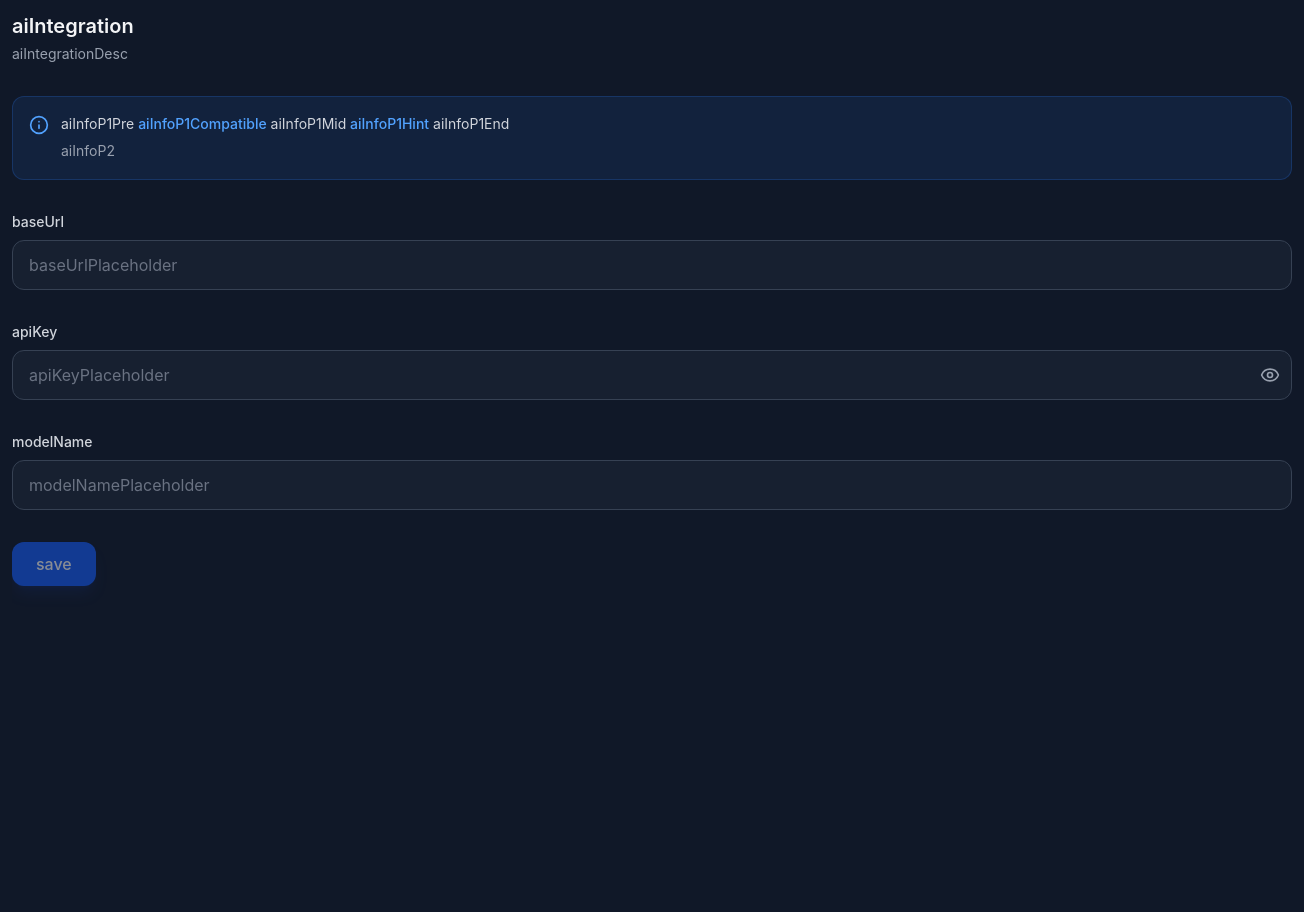
it: AIIntegrationSettings — save flow › successful save: validates, persists, clears fields, refreshes list
In the field labelled "baseUrl": {"x": 652, "y": 264} [12, 240, 1292, 290], type "https://api.example.com"
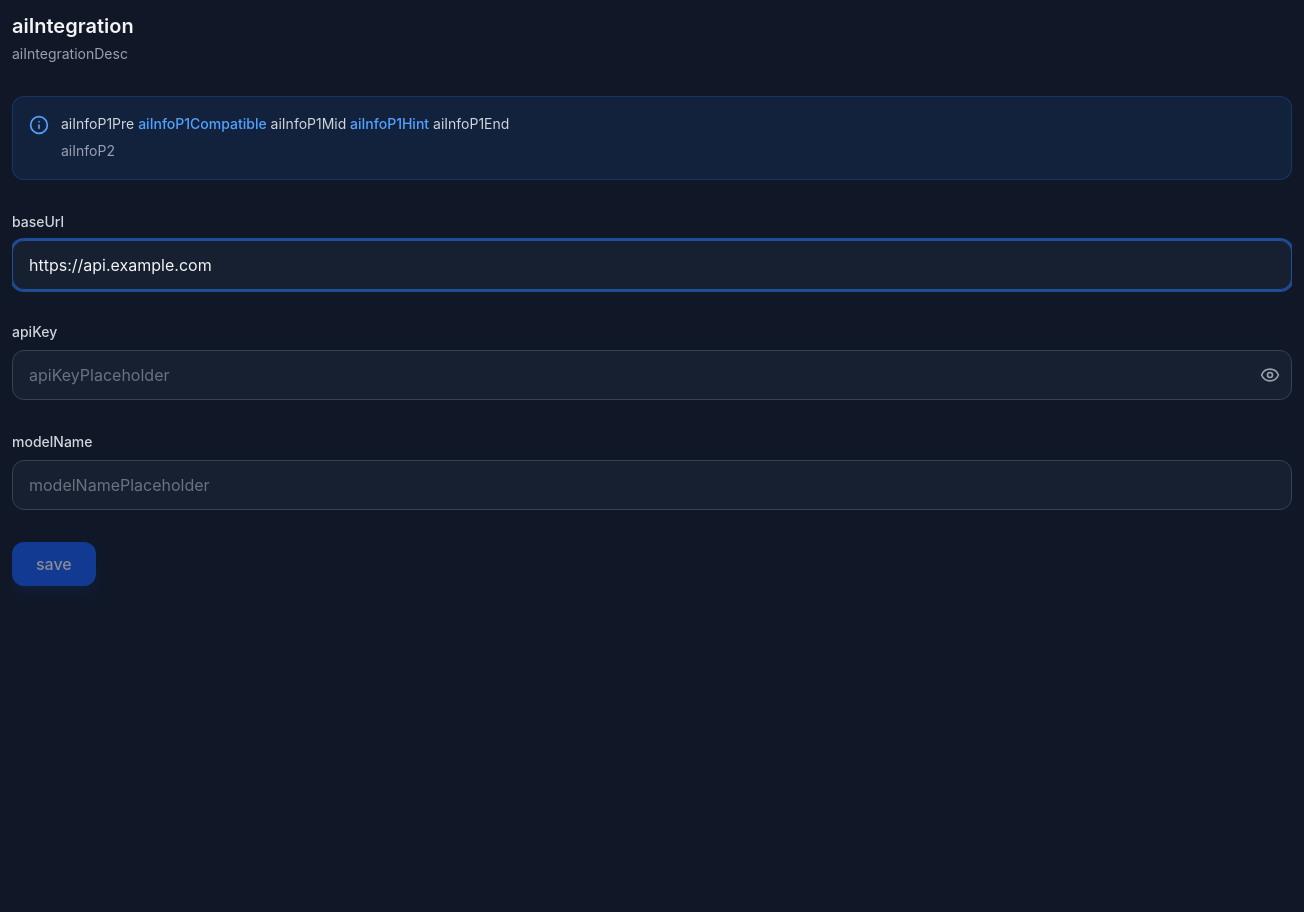
In the password field labelled "apiKey": {"x": 652, "y": 374} [12, 350, 1292, 400], type "sk-123"
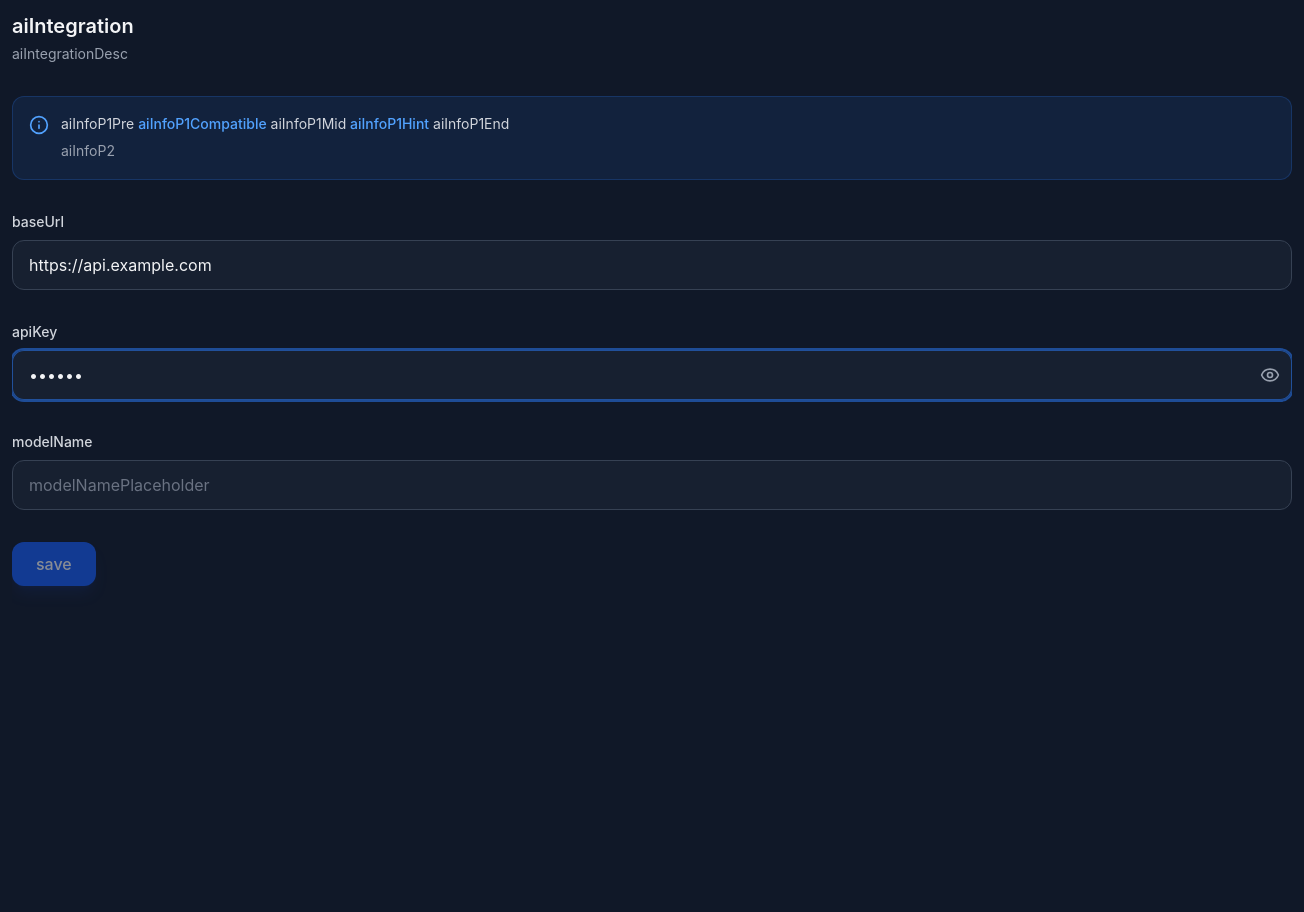
In the field labelled "modelName": {"x": 652, "y": 484} [12, 460, 1292, 510], type "gpt-4"
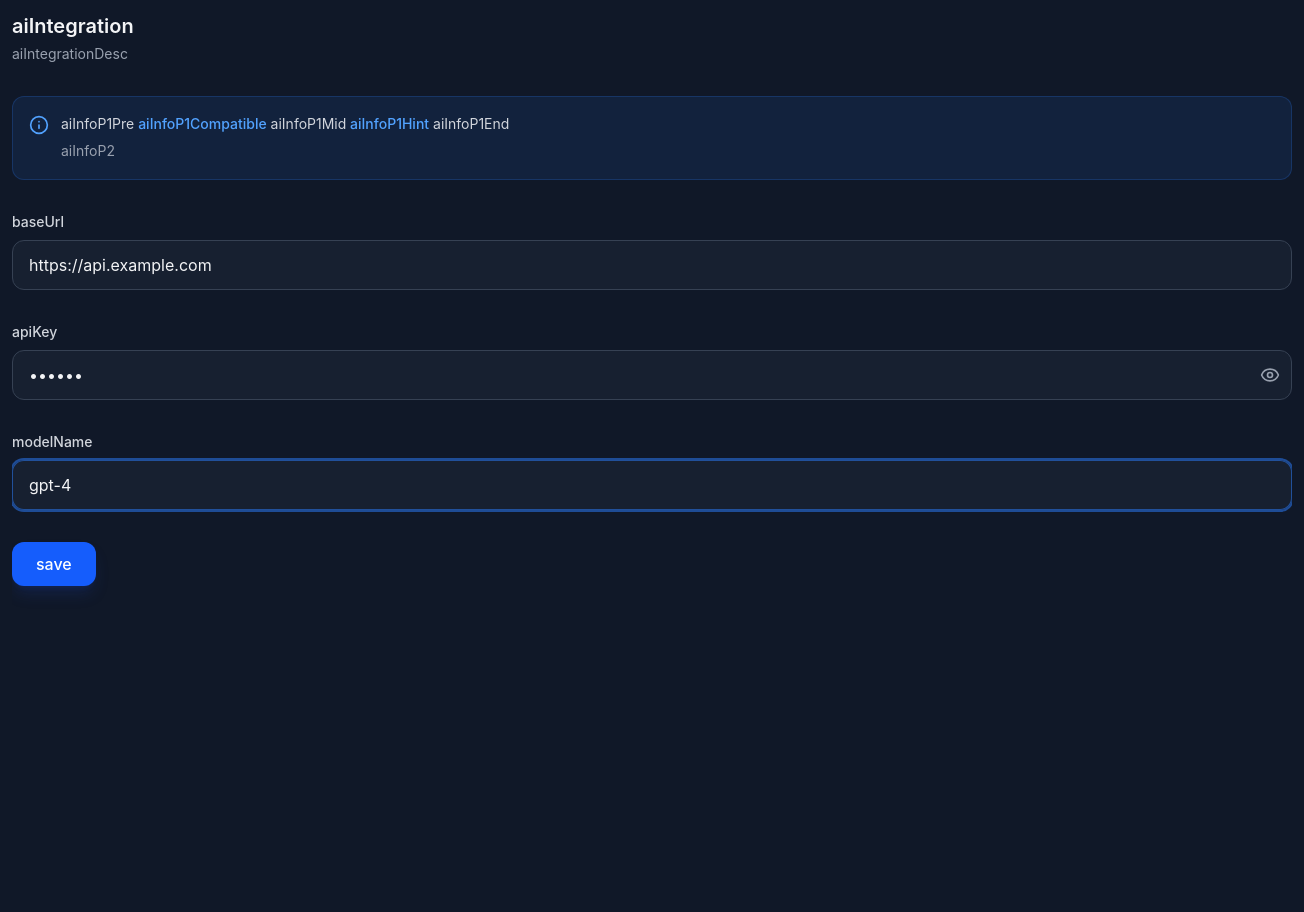
Click the button "save": {"x": 54, "y": 564} [12, 542, 96, 586]
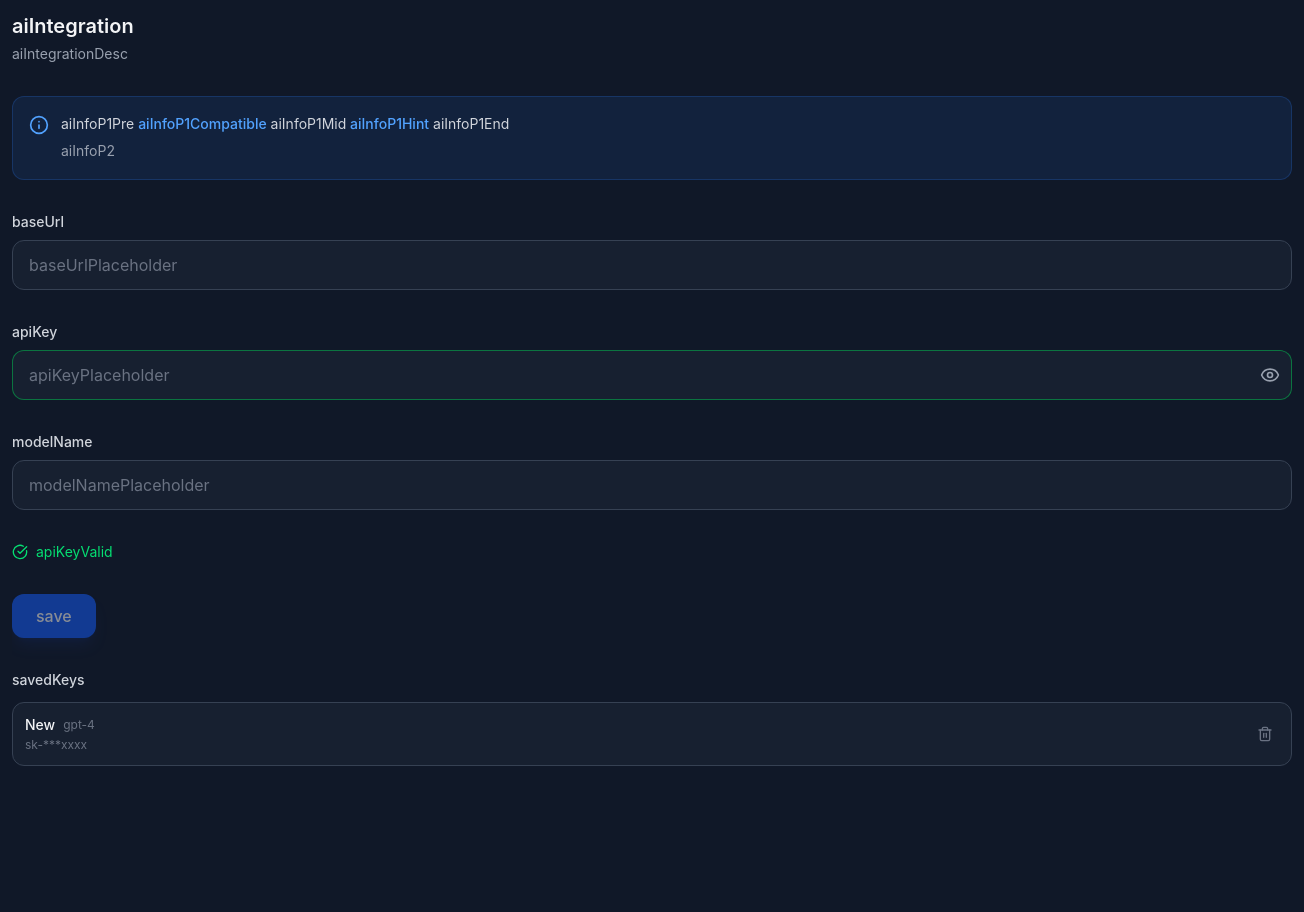
Now the text "apiKeyValid" is shown, box [36, 542, 113, 562]
Now the field labelled "baseUrl" is empty, box [12, 240, 1292, 290]
Now the password field labelled "apiKey" is empty, box [12, 350, 1292, 400]
